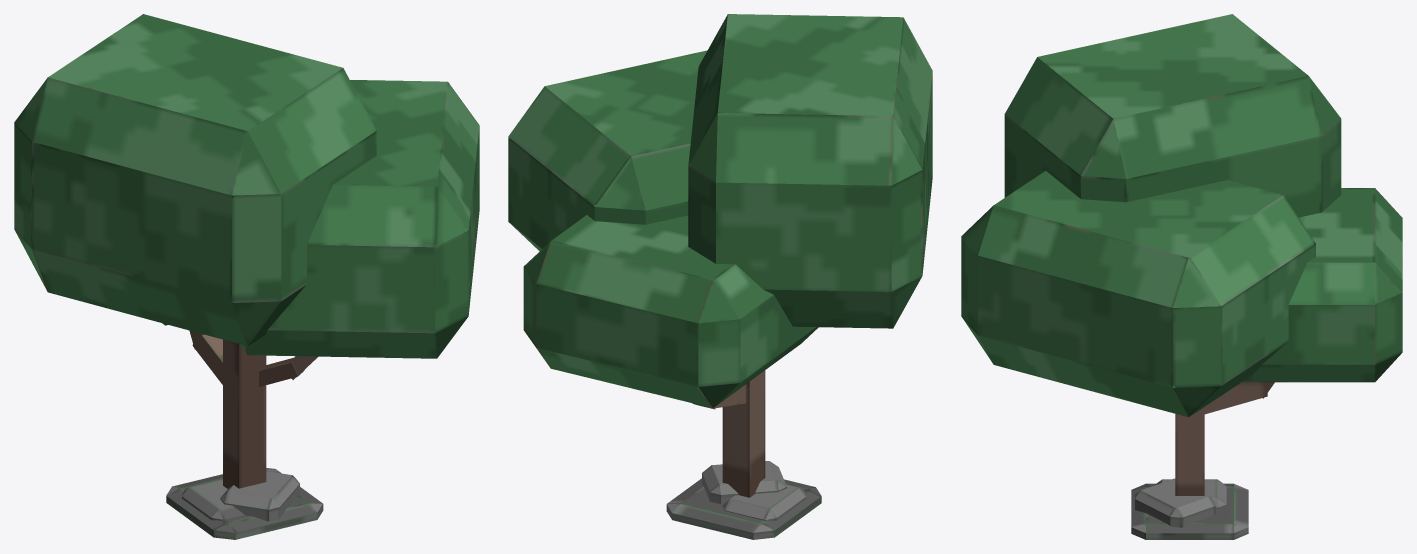
File: tree1.fbx
3 views of the same model, side by side, from view 1: azimuth 30°, elevation 25°; view 2: azimuth 150°, elevation 25°; view 3: azimuth 270°, elevation 25° (orthographic). The views are drawn at different scales.
Parts seen in each view (by area): view 1: beveled_cuboid_1, beveled_cuboid, cuboid, beveled_cuboid_3, beveled_cuboid_5, beveled_cuboid_4, cuboid_1, cube; view 2: beveled_cuboid_1, beveled_cuboid_2, beveled_cuboid, cuboid, beveled_cuboid_3, beveled_cuboid_4, beveled_cuboid_5; view 3: beveled_cuboid, beveled_cuboid_1, beveled_cuboid_2, beveled_cuboid_3, cuboid, beveled_cuboid_5, cuboid_1, beveled_cuboid_4.
Part boxes in pixels (left/top/right/bottom): beveled_cuboid_1: left=14, top=14, right=376, bottom=345; beveled_cuboid: left=232, top=80, right=479, bottom=358; cuboid: left=223, top=339, right=266, bottom=488; beveled_cuboid_3: left=166, top=468, right=323, bottom=539; beveled_cuboid_5: left=220, top=471, right=299, bottom=521; beveled_cuboid_4: left=182, top=479, right=244, bottom=524; cuboid_1: left=192, top=332, right=222, bottom=384; cube: left=259, top=357, right=304, bottom=386; beveled_cuboid_1: left=688, top=14, right=932, bottom=328; beveled_cuboid_2: left=523, top=215, right=818, bottom=407; beveled_cuboid: left=508, top=50, right=707, bottom=251; cuboid: left=722, top=370, right=765, bottom=497; beveled_cuboid_3: left=666, top=478, right=821, bottom=539; beveled_cuboid_4: left=722, top=485, right=805, bottom=520; beveled_cuboid_5: left=702, top=461, right=786, bottom=504; beveled_cuboid: left=961, top=171, right=1315, bottom=417; beveled_cuboid_1: left=1004, top=14, right=1341, bottom=260; beveled_cuboid_2: left=1221, top=188, right=1402, bottom=382; beveled_cuboid_3: left=1131, top=483, right=1248, bottom=539; cuboid: left=1175, top=407, right=1204, bottom=508; beveled_cuboid_5: left=1134, top=478, right=1215, bottom=527; cuboid_1: left=1204, top=382, right=1267, bottom=414; beveled_cuboid_4: left=1153, top=479, right=1226, bottom=508.
Bounding box in the file's own units: 386 × 406 × 376.
1 material, 1 textured.
